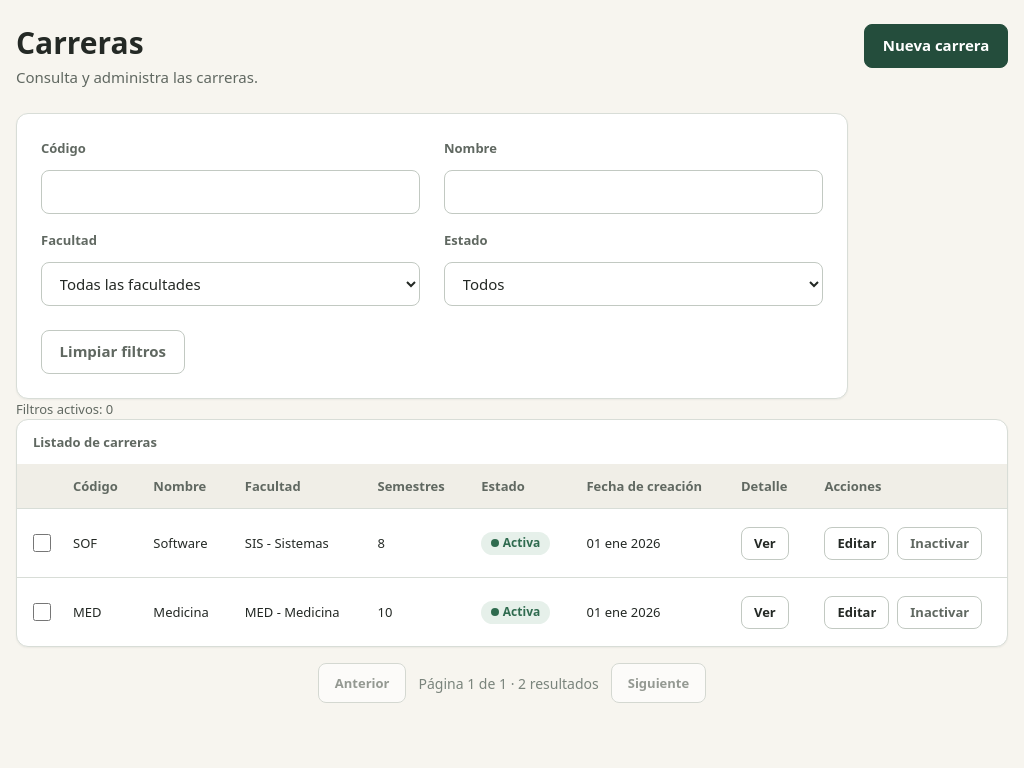
Test: ListadoCarrerasComponent › muestra la barra contextual con las acciones válidas al seleccionar
Click the cell "SOF".
click(97, 544)  # box [57,509,137,578]
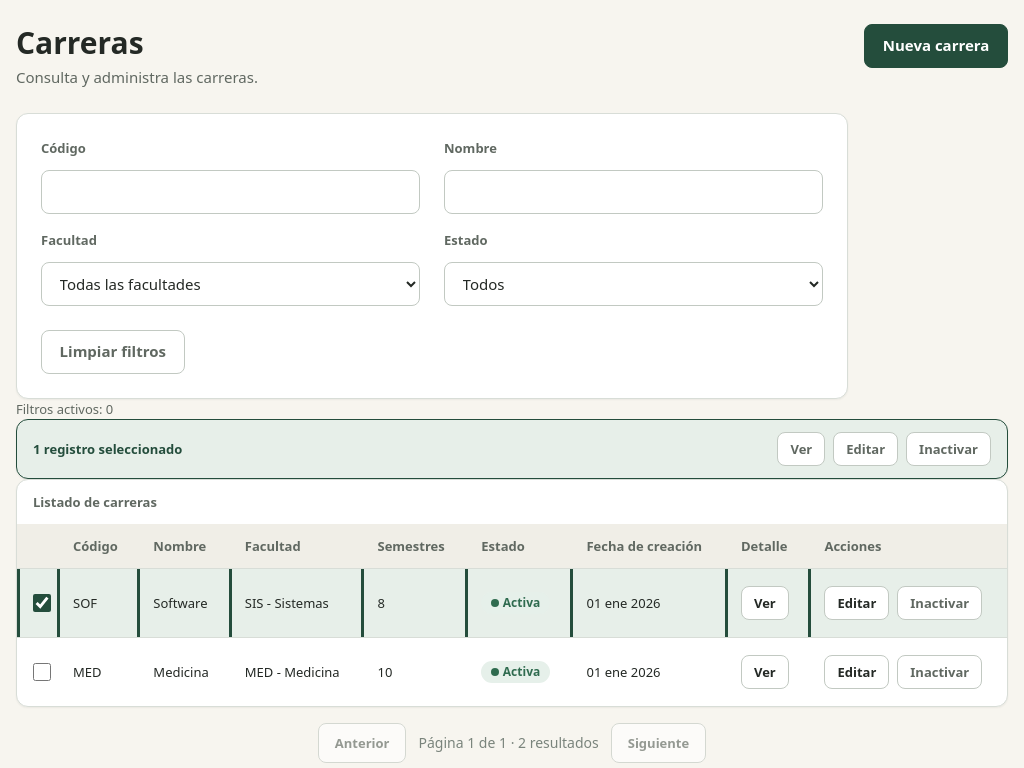
Result: the text "1 registro seleccionado" is shown at [33,439,182,459]
Result: the button "Ver" is shown at [778,432,825,466]
Result: the button "Editar" is shown at [833,432,898,466]
